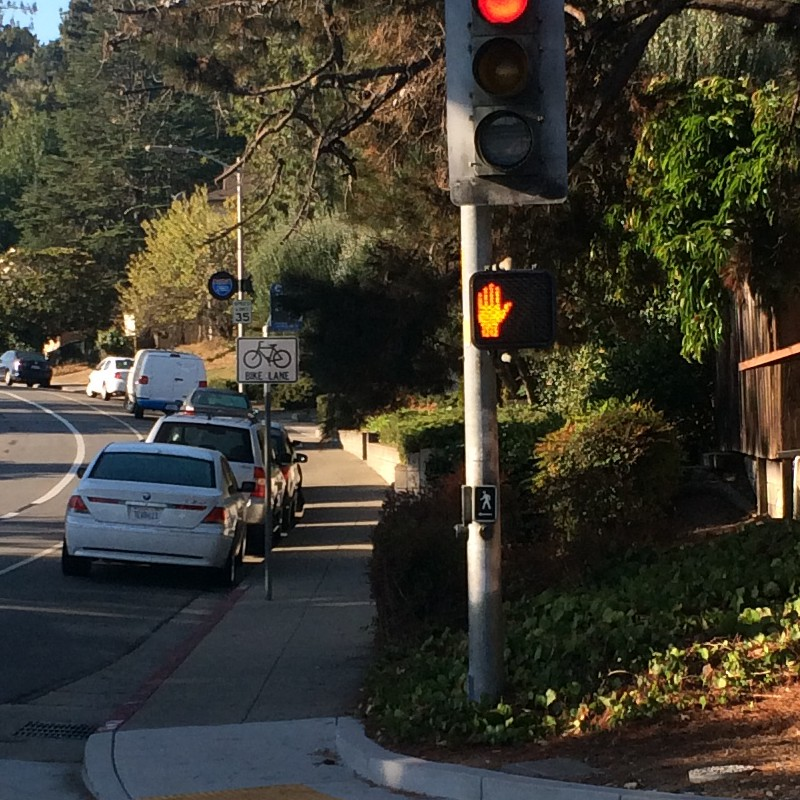stop: (464, 270, 565, 353)
